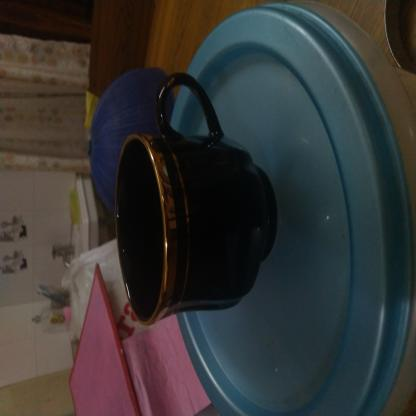cup: (67, 155, 262, 375)
